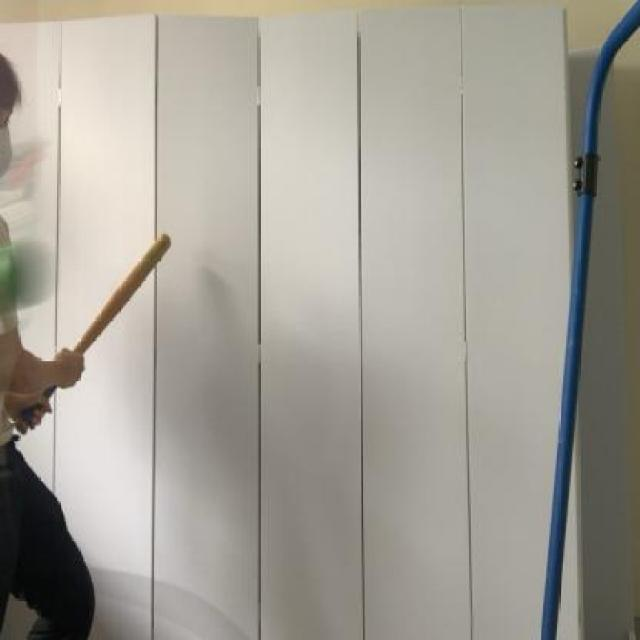baseball: (0, 230, 58, 311)
